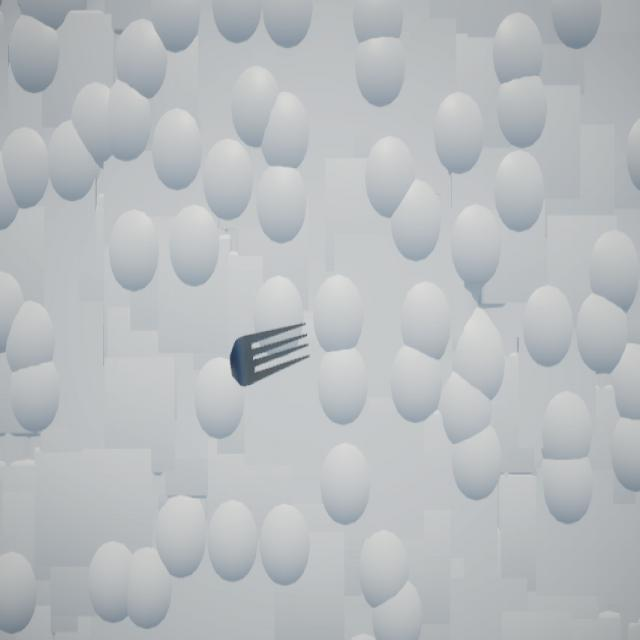top_folk: (230, 324, 311, 388)
